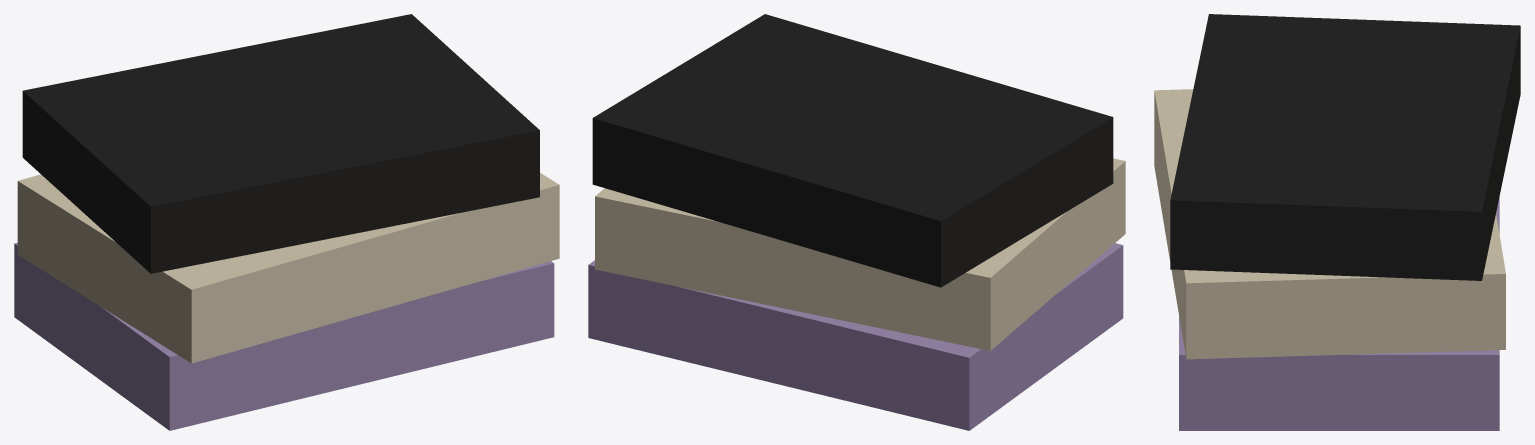
Rendered from towel-stack.glb.
3 views of the same model, side by side, from view 1: azimuth 30°, elevation 25°; view 2: azimuth 150°, elevation 25°; view 3: azimuth 270°, elevation 25° (orthographic). The views are drawn at different scales.
Visible parts, largest first — view 1: rubber, paper, accent-lilac; view 2: rubber, accent-lilac, paper; view 3: rubber, paper, accent-lilac.
Part boxes in pixels (<box>): rubber: <box>22,14,539,273</box>; paper: <box>17,173,559,363</box>; accent-lilac: <box>14,242,554,430</box>; rubber: <box>592,14,1113,287</box>; accent-lilac: <box>588,243,1123,430</box>; paper: <box>595,158,1125,350</box>; rubber: <box>1170,14,1520,280</box>; paper: <box>1154,89,1505,359</box>; accent-lilac: <box>1179,197,1499,430</box>.
Size of the model in its own units: 0.3139 by 0.16 by 0.24.
